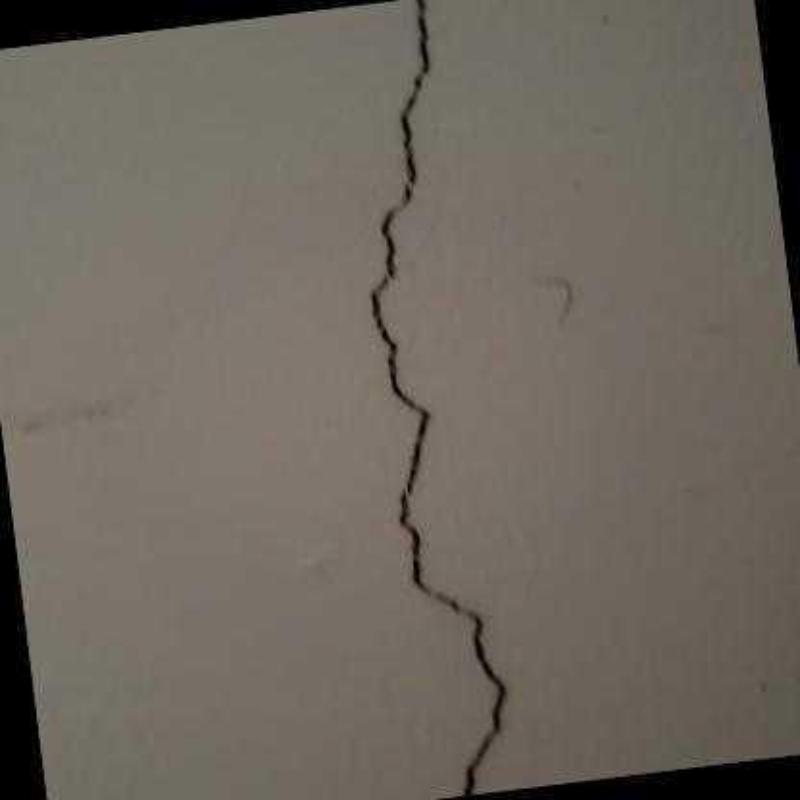pothole: (372, 1, 505, 797)
